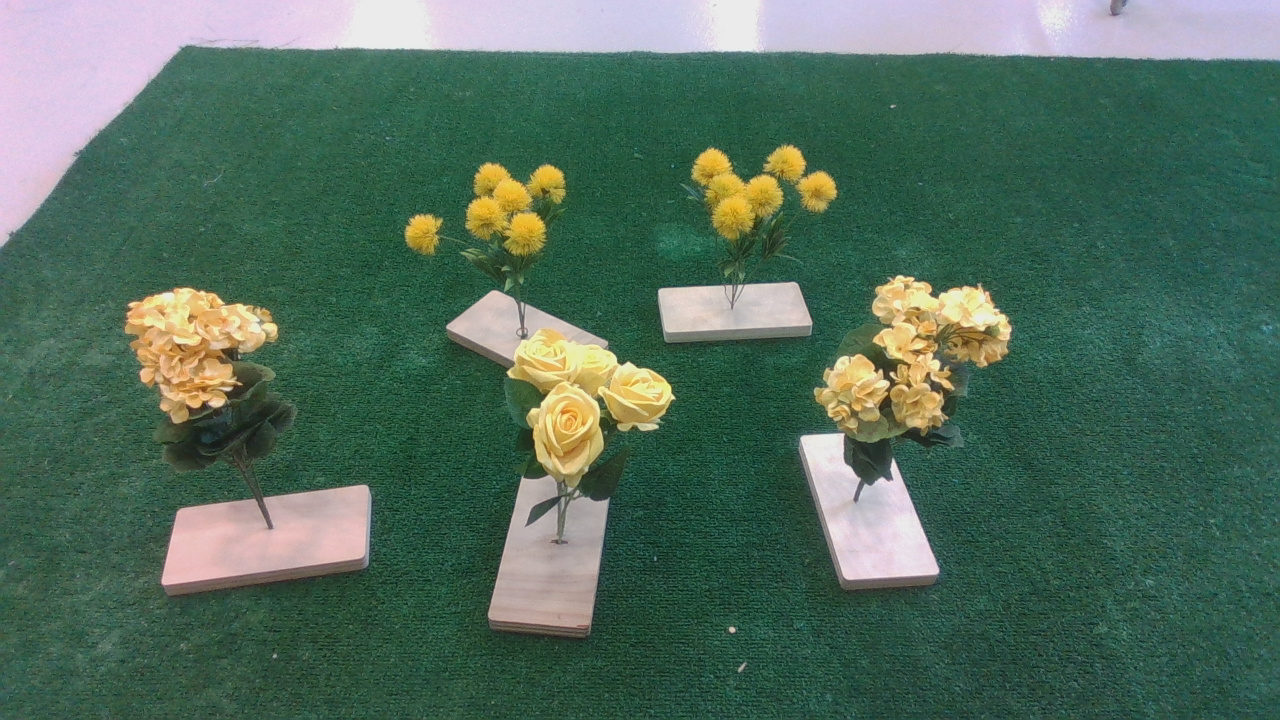dandelion: (401, 159, 582, 276), (672, 144, 855, 249)
geranium: (118, 284, 302, 482), (824, 281, 1025, 437)
rose: (505, 334, 684, 495)
